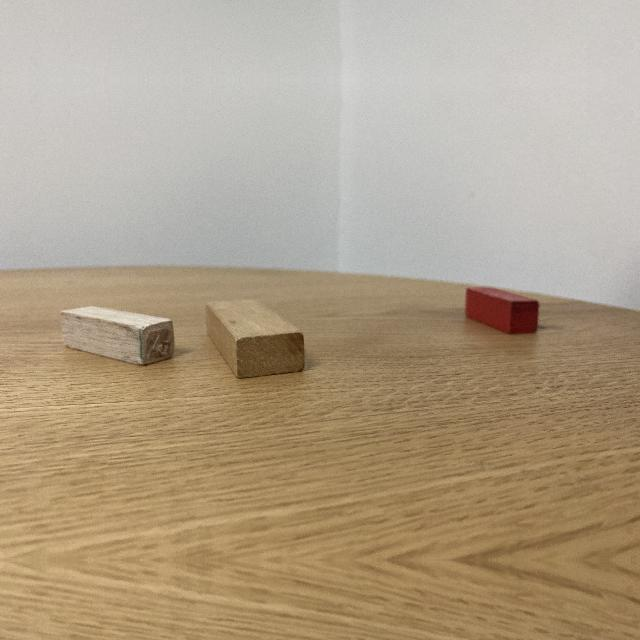block: (60, 307, 175, 368)
jenga: (203, 299, 304, 380)
red block: (465, 287, 540, 335)
